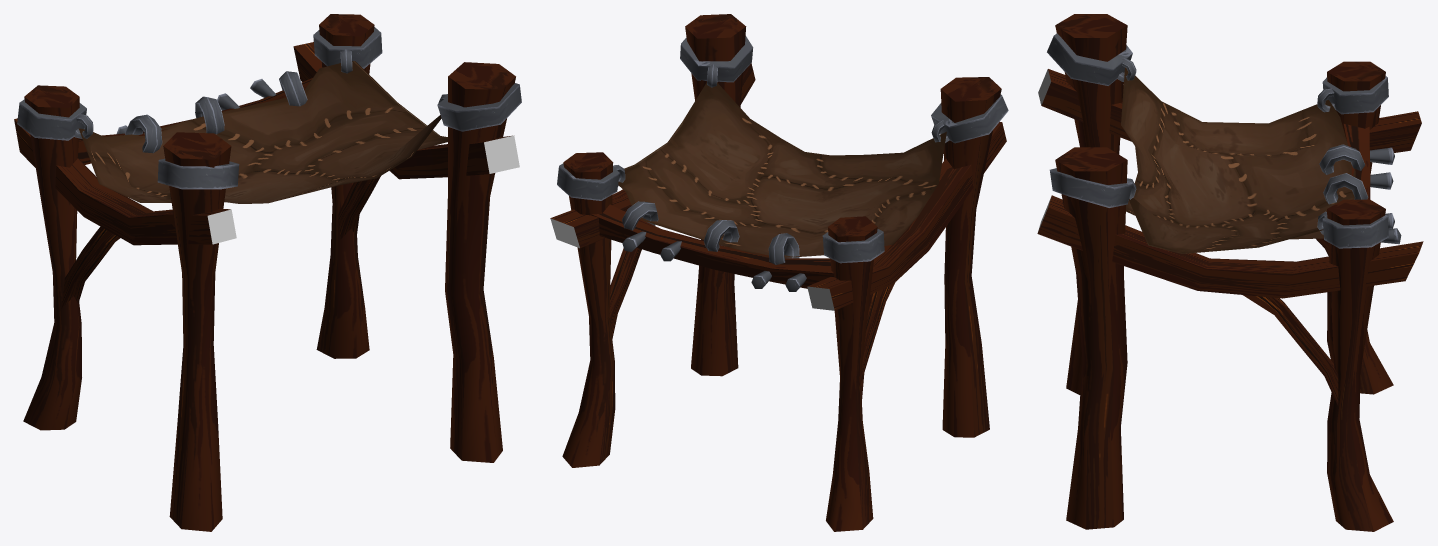
File: SM_PROP_market_v03_01.fbx
The picture shows the model from 3 angles, left to right: view 1: azimuth 30°, elevation 25°; view 2: azimuth 150°, elevation 25°; view 3: azimuth 270°, elevation 25°; orthographic projection. The views are drawn at different scales.
Parts seen in each view (by area): view 1: SM_PROP_market_v03_01; view 2: SM_PROP_market_v03_01; view 3: SM_PROP_market_v03_01.
Boxes of the visible parts, <box> form: SM_PROP_market_v03_01: <box>14,14,521,531</box>; SM_PROP_market_v03_01: <box>550,14,1008,531</box>; SM_PROP_market_v03_01: <box>1037,14,1423,531</box>.
Bounding box in the file's own units: 371 × 382 × 370.
